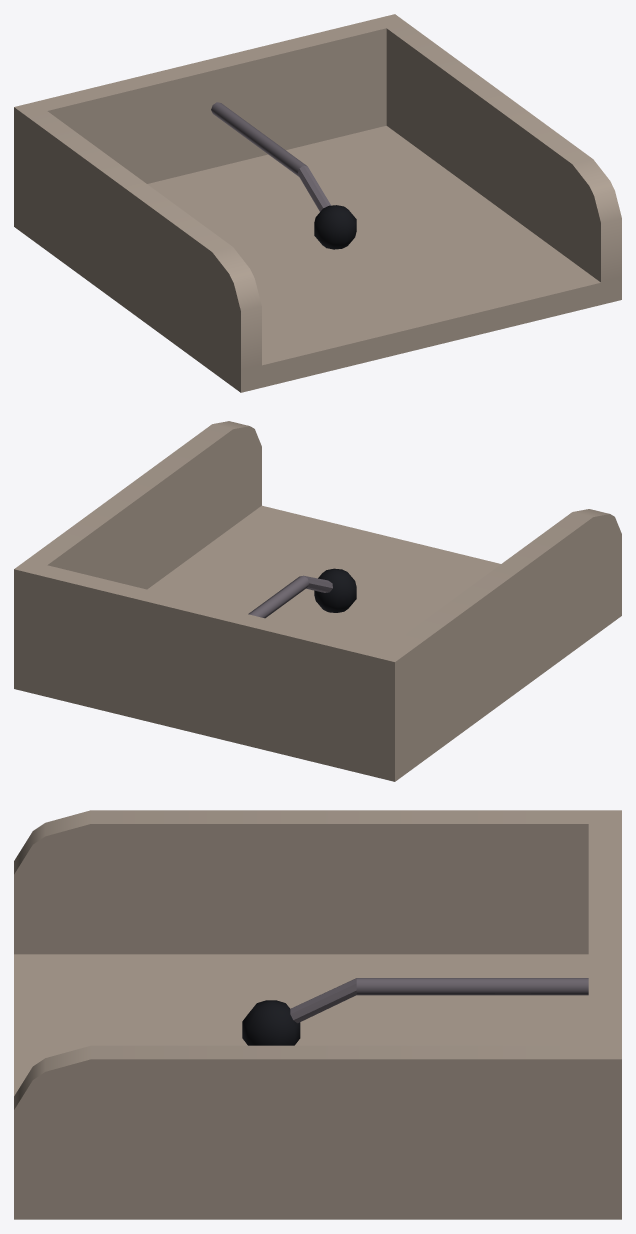
File: SM_paper_box_01.fbx
3 views of the same model, one above another, from view 1: azimuth 30°, elevation 25°; view 2: azimuth 150°, elevation 25°; view 3: azimuth 270°, elevation 25° (orthographic). The views are drawn at different scales.
Parts seen in each view (by area): view 1: paper_box_01; view 2: paper_box_01; view 3: paper_box_01.
Part boxes in pixels (<box>): paper_box_01: <box>14,14,621,392</box>; paper_box_01: <box>14,421,621,781</box>; paper_box_01: <box>14,810,621,1219</box>.
Bounding box in the file's own units: 31.37 × 9.42 × 32.36.
